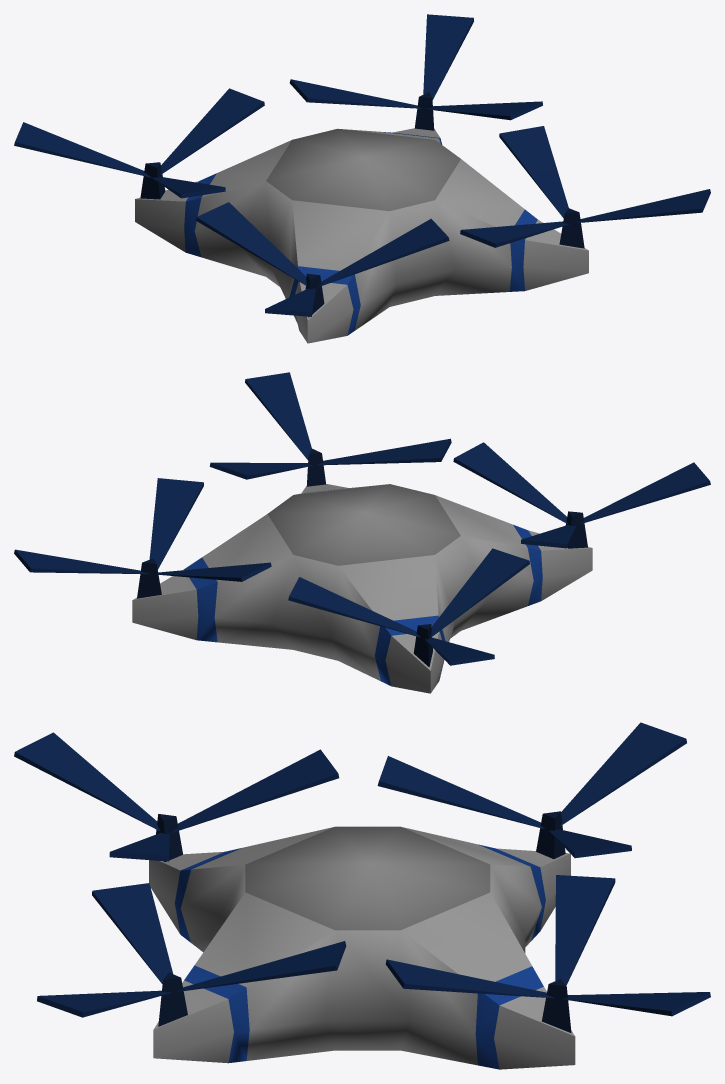
File: hat_drone.glb
The picture shows the model from 3 angles, top to bottom: view 1: azimuth 30°, elevation 25°; view 2: azimuth 150°, elevation 25°; view 3: azimuth 270°, elevation 25°; orthographic projection. The views are drawn at different scales.
Parts seen in each view (by area): view 1: hat_drone; view 2: hat_drone; view 3: hat_drone.
Part boxes in pixels (bbox=[...]): hat_drone: bbox=[14, 14, 710, 343]; hat_drone: bbox=[14, 372, 710, 693]; hat_drone: bbox=[14, 722, 710, 1069].
Size of the model in its own units: 0.5413 by 0.1182 by 0.5484.
